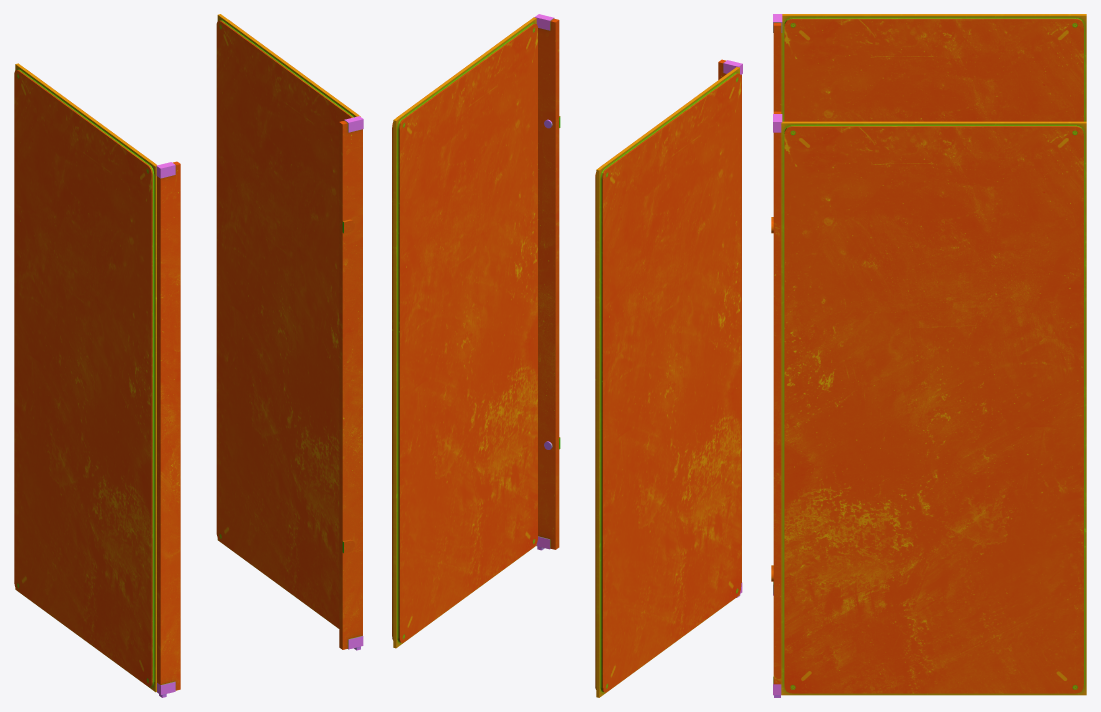
The model's file is SM_Bathroom_cabin.FBX.
The picture shows the model from 3 angles, left to right: view 1: azimuth 30°, elevation 25°; view 2: azimuth 150°, elevation 25°; view 3: azimuth 270°, elevation 25°; orthographic projection. The views are drawn at different scales.
Visible parts, largest first — view 1: SM_Bathroom_cabin; view 2: SM_Bathroom_cabin; view 3: SM_Bathroom_cabin.
Part boxes in pixels (x1,y1,x2,y2): SM_Bathroom_cabin: (14, 14, 363, 697); SM_Bathroom_cabin: (392, 14, 742, 697); SM_Bathroom_cabin: (771, 14, 1086, 697).
Size of the model in its own units: 104 by 250 by 124.
1 material, 1 textured.
